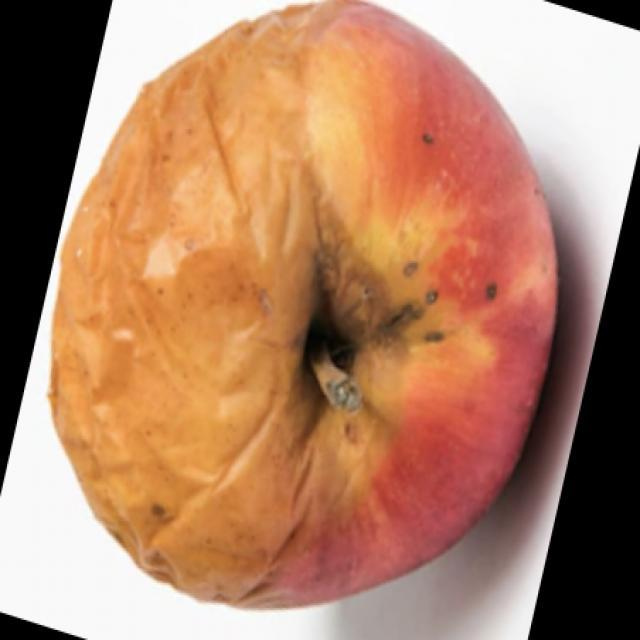Rotten: (73, 17, 572, 598)
